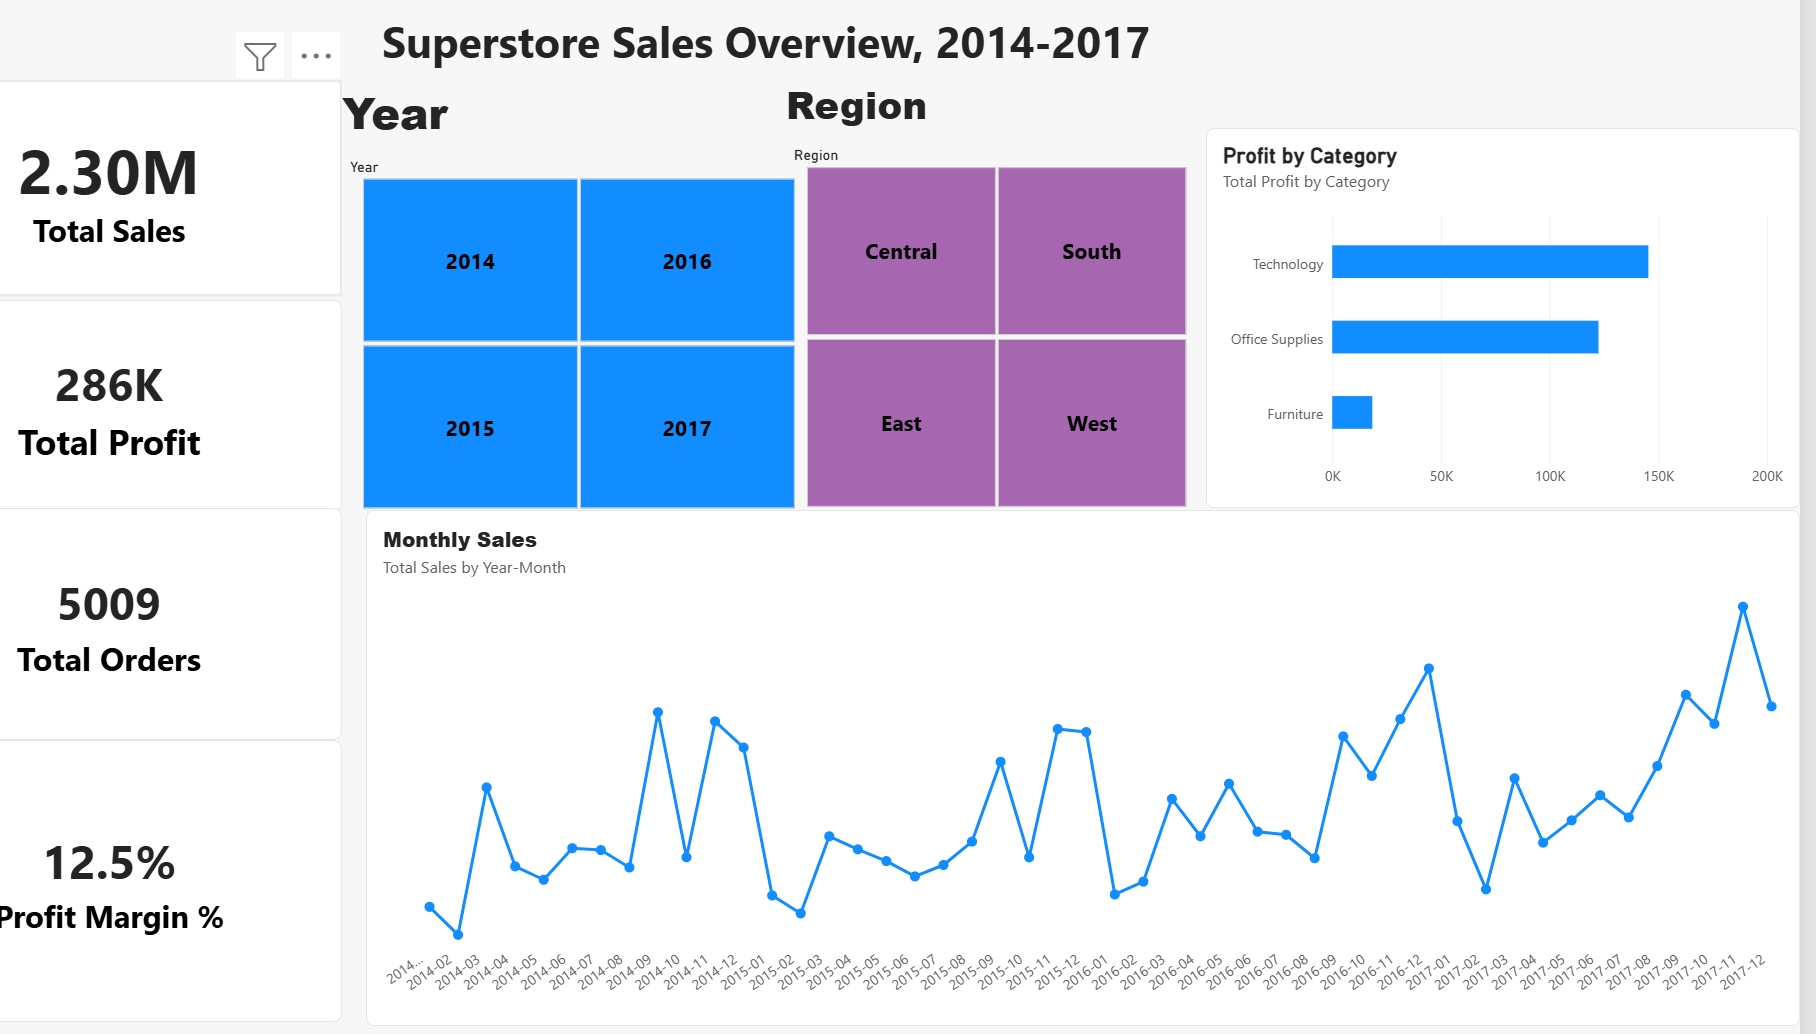

Layout of this report page (visuals, bound fields, positions):
{"tool":"powerbi","page":{"name":"Overview","canvas":[1920,1080],"ordinal":0},"visuals":[{"type":"card","fields":{"Values":["Orders.Total Sales"]},"box":[0,109.8,465.1,216],"z":0},{"type":"card","fields":{"Values":["Orders.Total Profit"]},"box":[0,329.4,465.1,211.6],"z":1000},{"type":"card","fields":{"Values":["Orders.Total Orders"]},"box":[0,537,465.1,231.6],"z":2000},{"type":"actionButton","box":[0,0,100,40],"z":3000},{"type":"card","fields":{"Values":["Orders.Profit Margin %"]},"box":[0,768.6,465.1,281.5],"z":4000},{"type":"textbox","box":[49.9,41.9,1676.9,69.9],"z":5000},{"type":"slicer","title":"Year","fields":{"Values":["Date Table.Year"]},"box":[465.1,111.8,470.9,427.7],"z":6000},{"type":"slicer","title":"Region","fields":{"Values":["Orders.Region"]},"box":[908.3,107.8,418.6,430],"z":7000},{"type":"lineChart","title":"Monthly Sales","fields":{"Category":["Date Table.Year-Month"],"Y":["Orders.Total Sales"]},"box":[489.1,539,1431.3,515],"z":7001},{"type":"clusteredBarChart","title":" Profit by Category","fields":{"Category":["Orders.Category"],"Y":["Orders.Total Profit"]},"box":[1327.5,157.7,592.9,379.3],"z":7002}]}

Visuals, with their boxes on the page's 1920x1080 design canvas (x1, y1, x2, y2). These are canvas units, not pixel positions in the 1816x1034 screenshot, which may show the page scaled, cropped or inside an application window:
card - Orders.Total Sales: (left=0, top=110, right=465, bottom=326)
card - Orders.Total Profit: (left=0, top=329, right=465, bottom=541)
card - Orders.Total Orders: (left=0, top=537, right=465, bottom=769)
actionButton: (left=0, top=0, right=100, bottom=40)
card - Orders.Profit Margin %: (left=0, top=769, right=465, bottom=1050)
textbox: (left=50, top=42, right=1727, bottom=112)
"Year" slicer: (left=465, top=112, right=936, bottom=540)
"Region" slicer: (left=908, top=108, right=1327, bottom=538)
"Monthly Sales" lineChart: (left=489, top=539, right=1920, bottom=1054)
" Profit by Category" clusteredBarChart: (left=1328, top=158, right=1920, bottom=537)
